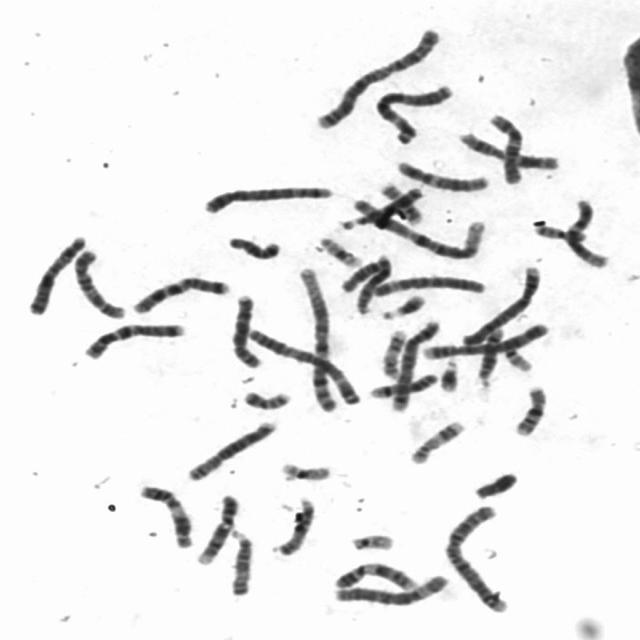A1: (343, 191, 487, 261), (292, 262, 338, 413)
A2: (307, 20, 444, 131), (438, 498, 514, 615)
A3: (241, 323, 363, 407), (368, 78, 456, 145)
B4: (455, 260, 544, 348), (418, 317, 552, 361)
B5: (384, 312, 444, 414), (196, 179, 336, 215)
C10: (66, 243, 129, 321), (481, 108, 527, 184)
C11: (452, 125, 562, 172), (131, 478, 196, 550)
C12: (559, 193, 612, 270), (390, 154, 492, 193)
C6: (327, 568, 453, 609), (366, 269, 488, 299)
C7: (76, 316, 188, 361), (125, 270, 233, 315)
C8: (179, 414, 279, 483), (224, 288, 262, 370)
C9: (190, 489, 242, 566), (327, 556, 422, 592)
D13: (338, 186, 424, 231), (349, 249, 394, 316)
D14: (363, 367, 441, 399), (471, 322, 507, 386)
D15: (265, 492, 318, 558), (222, 524, 255, 598)
E16: (374, 177, 425, 226), (507, 380, 550, 438)
E17: (403, 414, 468, 465), (375, 324, 409, 379)
E18: (334, 251, 393, 294), (220, 230, 283, 261)
F19: (311, 230, 365, 268), (273, 455, 334, 483)
F20: (236, 383, 294, 412), (528, 219, 589, 243)
G21: (374, 288, 428, 321), (433, 354, 462, 394)
G22: (343, 527, 397, 552), (497, 339, 535, 372)
X: (20, 229, 89, 317)
Y: (467, 465, 522, 500)
